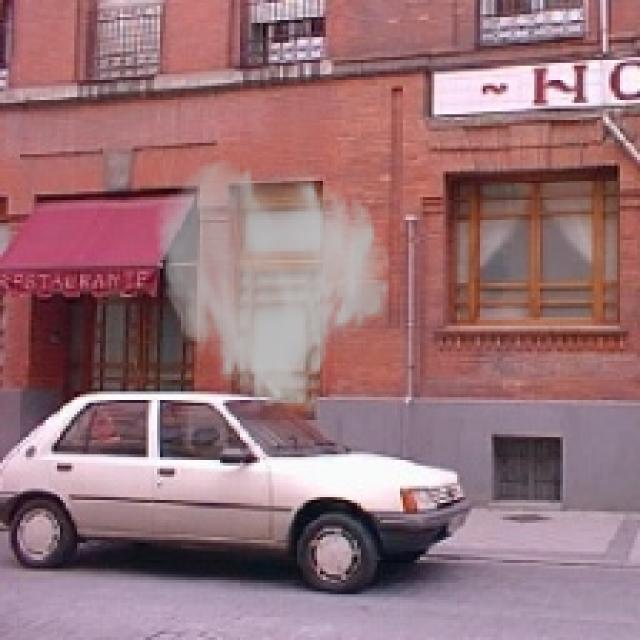smoke: (154, 154, 394, 420)
